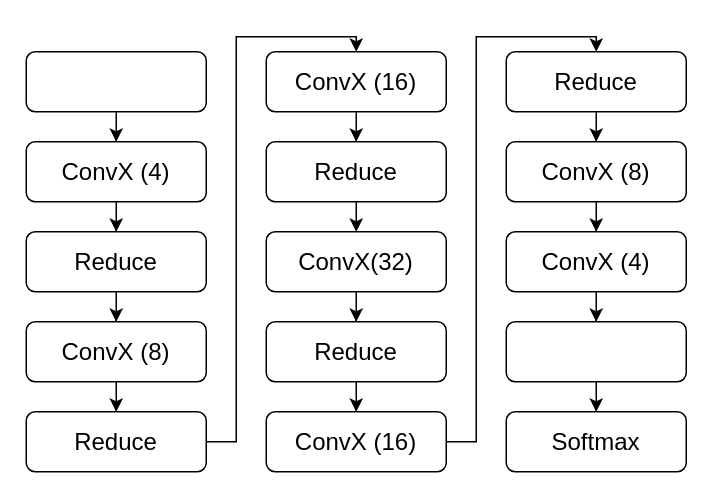
The diagram is 713 pixels wide and 498 high, and some of its shapes have lost their labels. Here are the shapes that lost their labels. From the top down, the centre of each, then its label:
the point at 115,81: ConvX (in)
the point at 595,351: Conv1D (2)
